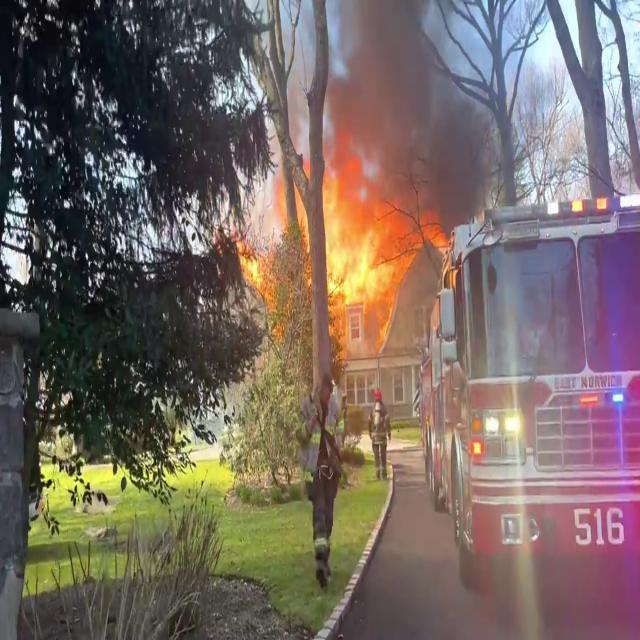Fire: (251, 160, 404, 340)
Smoke: (335, 3, 509, 250)
